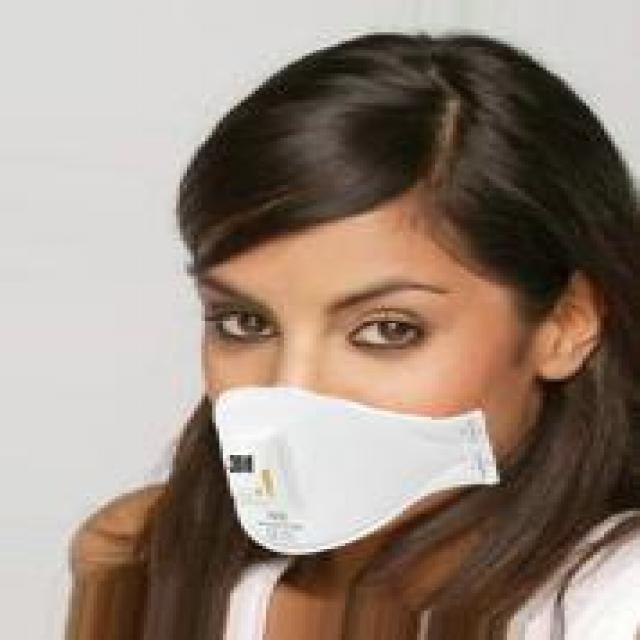mask: (165, 79, 633, 567)
